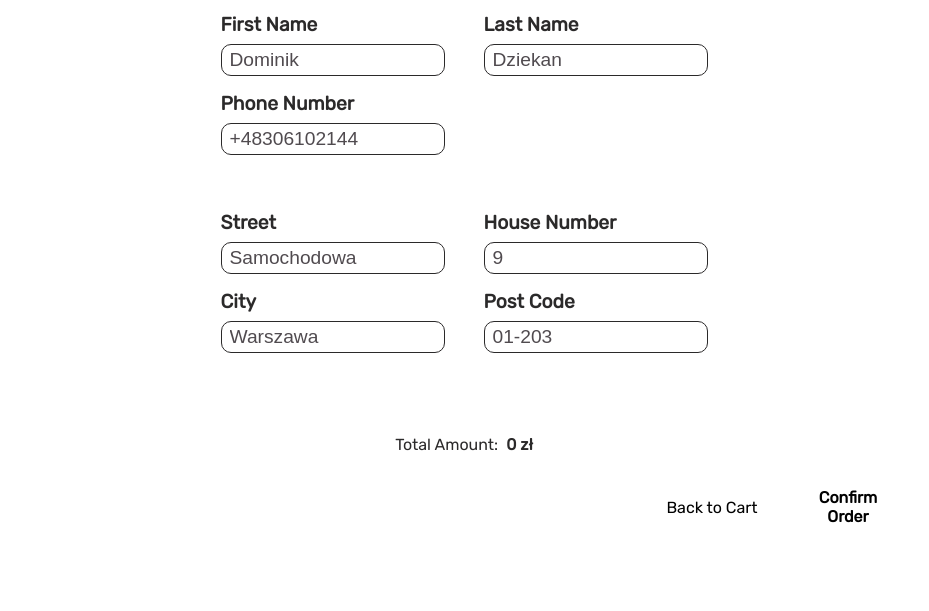
Scenario: Summary › shows toast error if nothing is in the cart after clicked confirm button
The image size is (929, 611).
Click the button with test id "confirm-btn" at x=848, y=507, box x1=784 y1=487 x2=912 y2=527
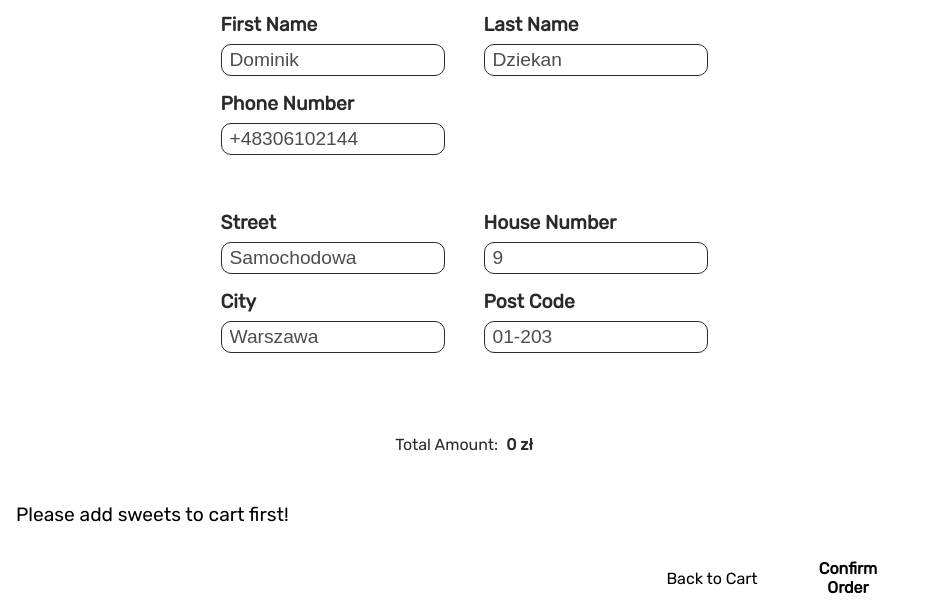
expect the text "Please add sweets to cart first!" is shown: met, box x1=16 y1=503 x2=289 y2=526
